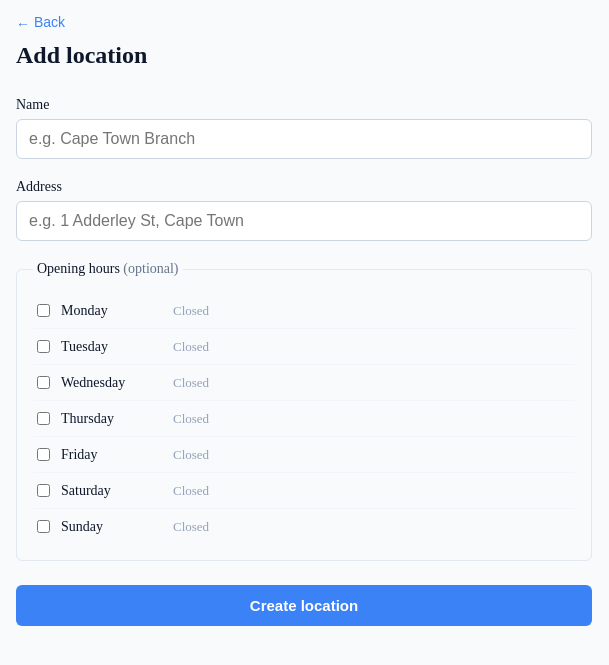
Test: AddLocationView › shows address validation error when address is empty on submit
This screenshot has width=609, height=665.
Type "Main Branch" into the field with test id "name-input" at x=304, y=139, box [16,119,592,159]
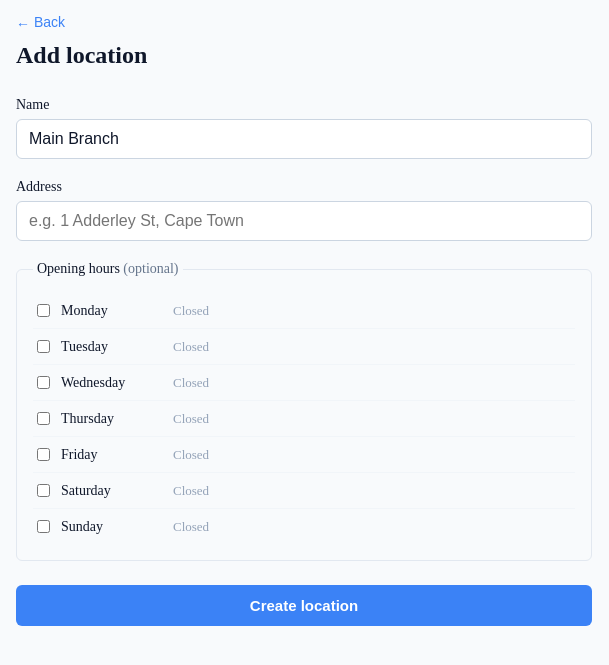
Submit the form with test id "add-location-form"
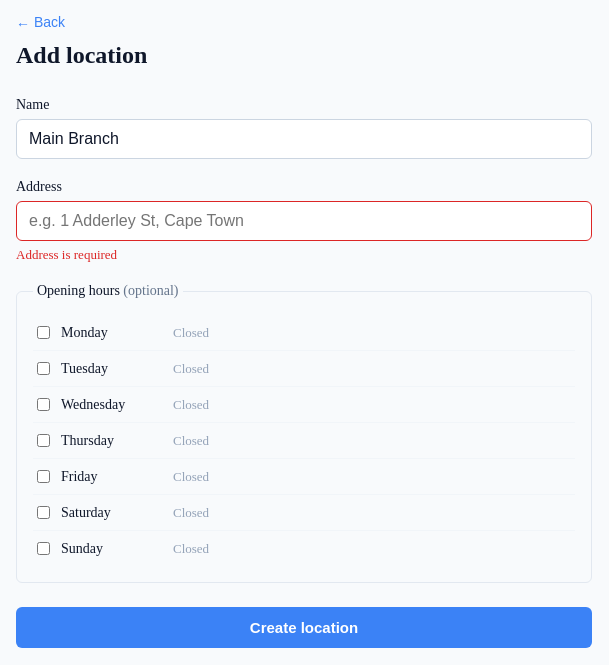
Result: the text "Address is required" is shown at [16,247,117,262]
